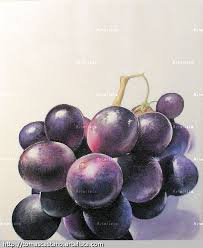Black grapes: (8, 76, 203, 239)
